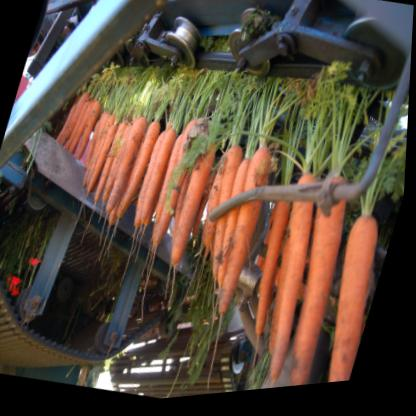--: (160, 126, 228, 288), (104, 101, 154, 222), (130, 118, 182, 234), (117, 109, 166, 230)
